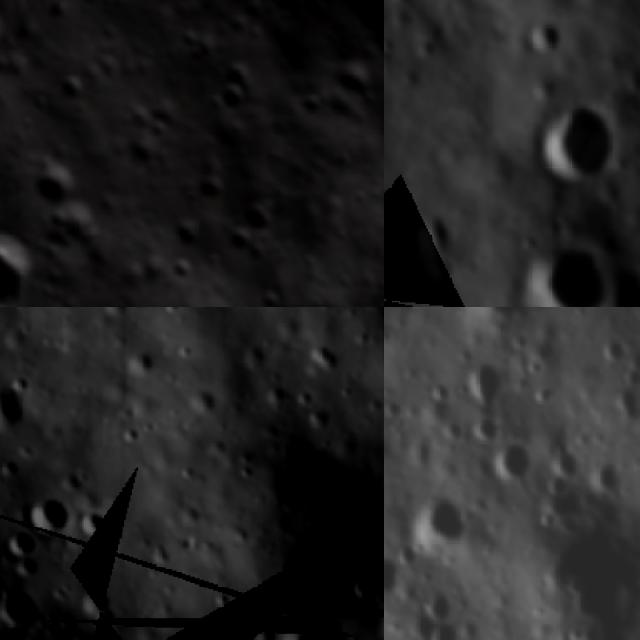crater: (527, 87, 630, 199), (509, 237, 617, 307), (0, 200, 68, 307), (16, 144, 90, 216), (404, 490, 469, 558), (201, 69, 264, 132), (227, 188, 286, 247), (267, 602, 356, 640), (165, 206, 222, 263), (514, 10, 574, 62), (460, 358, 510, 412), (184, 165, 235, 216), (488, 441, 536, 490), (0, 575, 41, 629), (26, 490, 70, 539), (600, 258, 640, 307), (469, 307, 543, 333), (544, 449, 588, 492), (592, 459, 632, 505), (416, 588, 459, 626), (70, 581, 114, 617), (0, 382, 30, 433), (0, 523, 39, 558), (78, 507, 115, 542), (469, 413, 504, 450), (345, 566, 379, 603), (384, 552, 404, 606), (598, 332, 626, 368), (426, 619, 469, 640)
